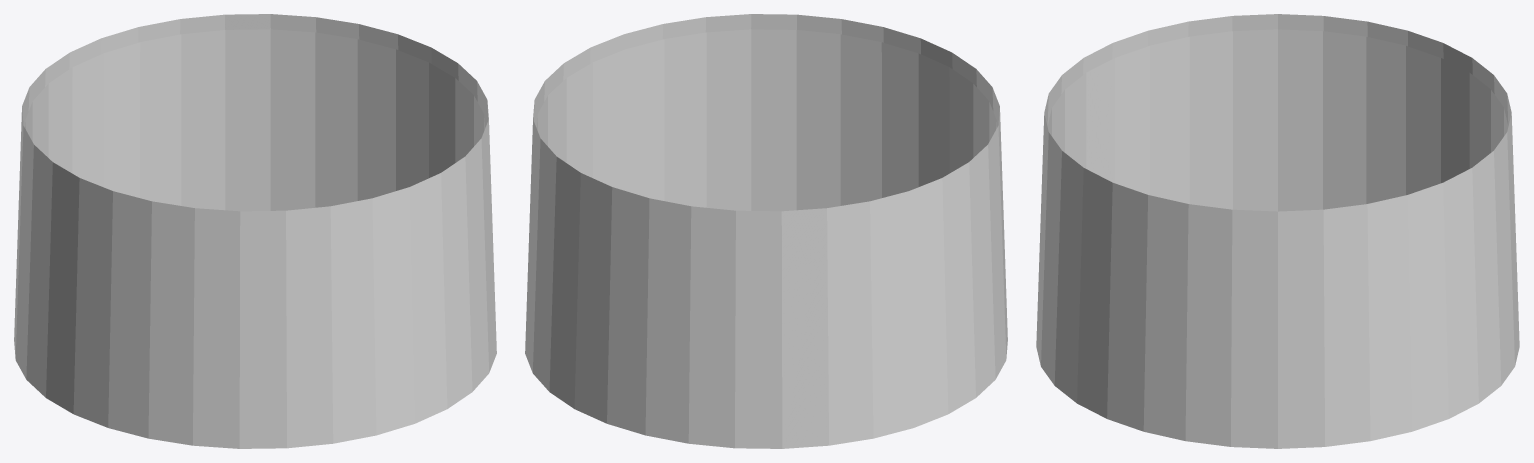
Rendered from glow_cylinder.fbx.
3 views of the same model, side by side, from view 1: azimuth 30°, elevation 25°; view 2: azimuth 150°, elevation 25°; view 3: azimuth 270°, elevation 25° (orthographic).
Visible parts, largest first — view 1: effect_cylinder; view 2: effect_cylinder; view 3: effect_cylinder.
Part boxes in pixels (<box>): effect_cylinder: <box>14,14,496,448</box>; effect_cylinder: <box>525,14,1007,448</box>; effect_cylinder: <box>1036,14,1519,448</box>.
Bounding box in the file's own units: 197 × 105 × 197.
